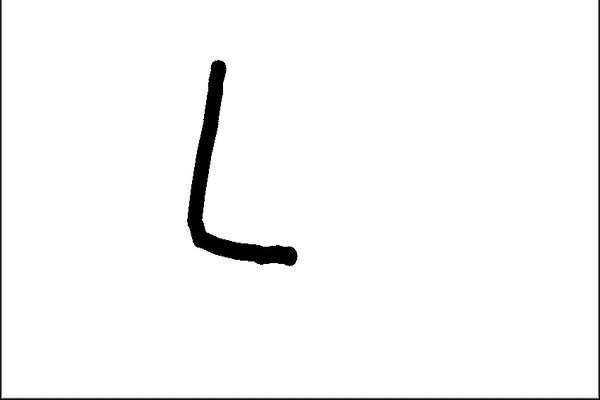L: (179, 48, 306, 279)
